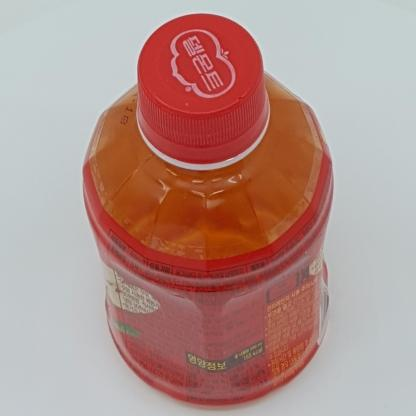----------280ML: (82, 12, 333, 407)
